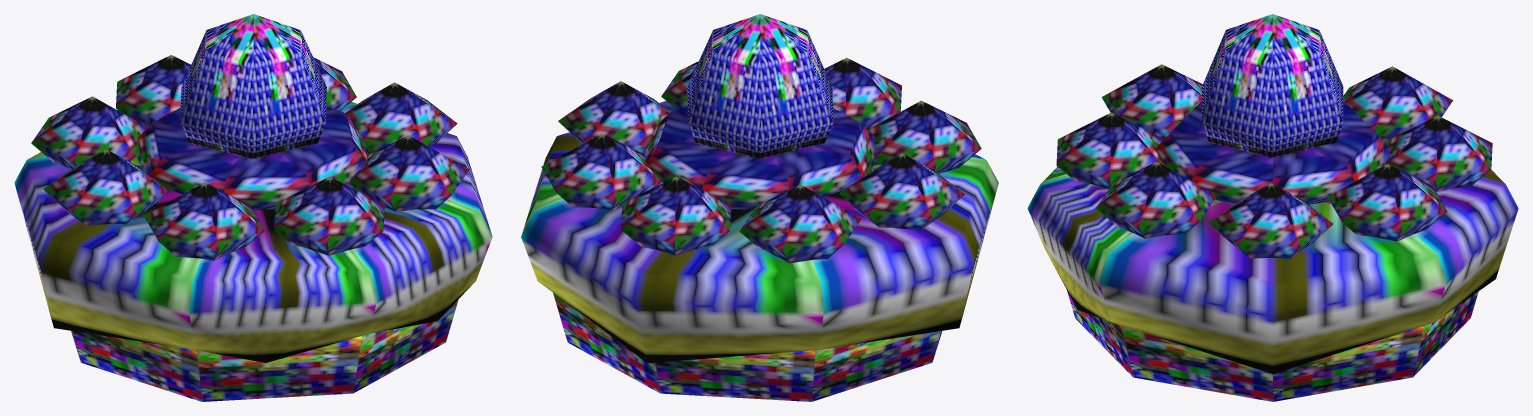
File: hat_cake_model.glb
3 renders of one model, left to right at view 1: azimuth 30°, elevation 25°; view 2: azimuth 150°, elevation 25°; view 3: azimuth 270°, elevation 25°, orthographic.
Visible parts, largest first — view 1: hat_cake_model; view 2: hat_cake_model; view 3: hat_cake_model.
Part boxes in pixels (x1=…): hat_cake_model: x1=14, y1=14, x2=492, y2=401; hat_cake_model: x1=521, y1=14, x2=998, y2=401; hat_cake_model: x1=1027, y1=14, x2=1518, y2=401.
Size of the model in its own units: 85.4 by 59.29 by 85.4.
1 material, 1 textured.
